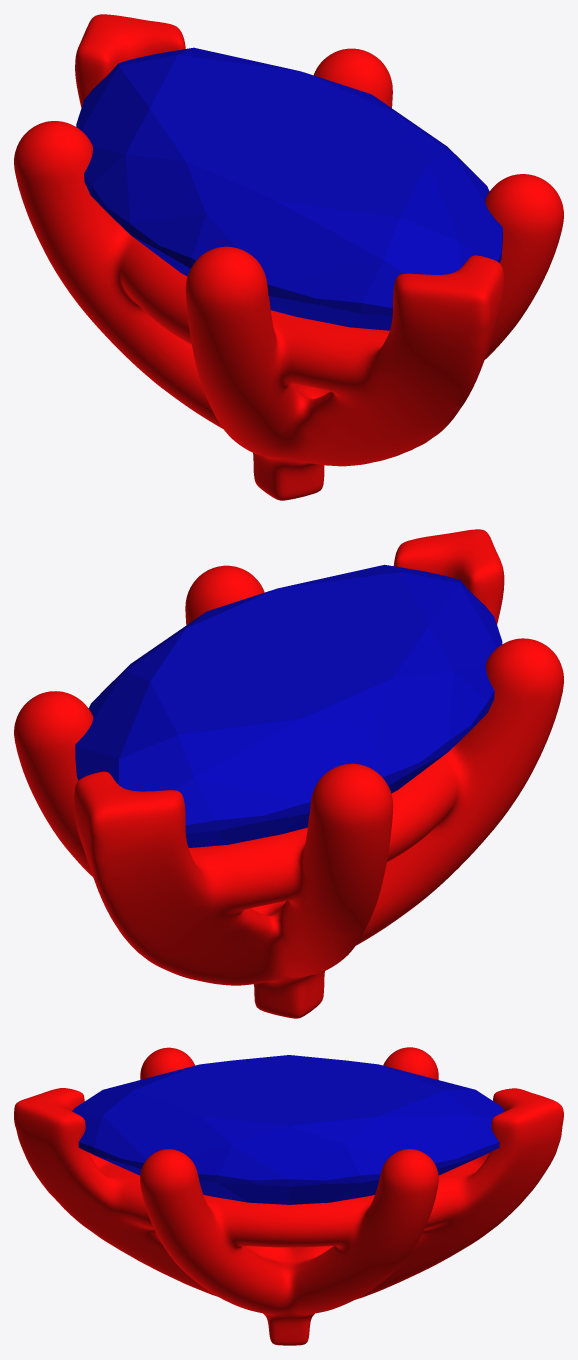
File: Marquise.3dm.glb
The picture shows the model from 3 angles, top to bottom: view 1: azimuth 30°, elevation 25°; view 2: azimuth 150°, elevation 25°; view 3: azimuth 270°, elevation 25°; orthographic projection. The views are drawn at different scales.
Visible parts, largest first — view 1: /Marquise.3dm, Diamond_Marquise; view 2: /Marquise.3dm, Diamond_Marquise; view 3: /Marquise.3dm, Diamond_Marquise.
Boxes of the visible parts, left/top/right/bottom form: /Marquise.3dm: left=14, top=14, right=563, bottom=500; Diamond_Marquise: left=76, top=47, right=502, bottom=330; /Marquise.3dm: left=14, top=529, right=563, bottom=1018; Diamond_Marquise: left=75, top=564, right=502, bottom=847; /Marquise.3dm: left=14, top=1047, right=563, bottom=1345; Diamond_Marquise: left=72, top=1055, right=504, bottom=1204.
Size of the model in its own units: 7.51 by 6.92 by 13.84.
